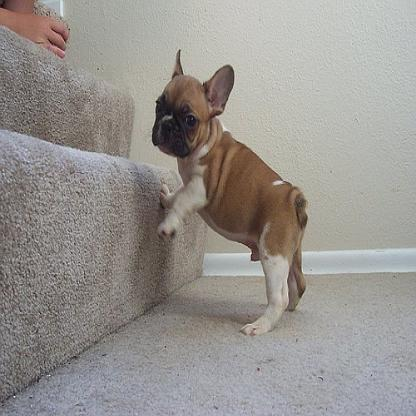French_bulldog: (146, 47, 308, 336)
